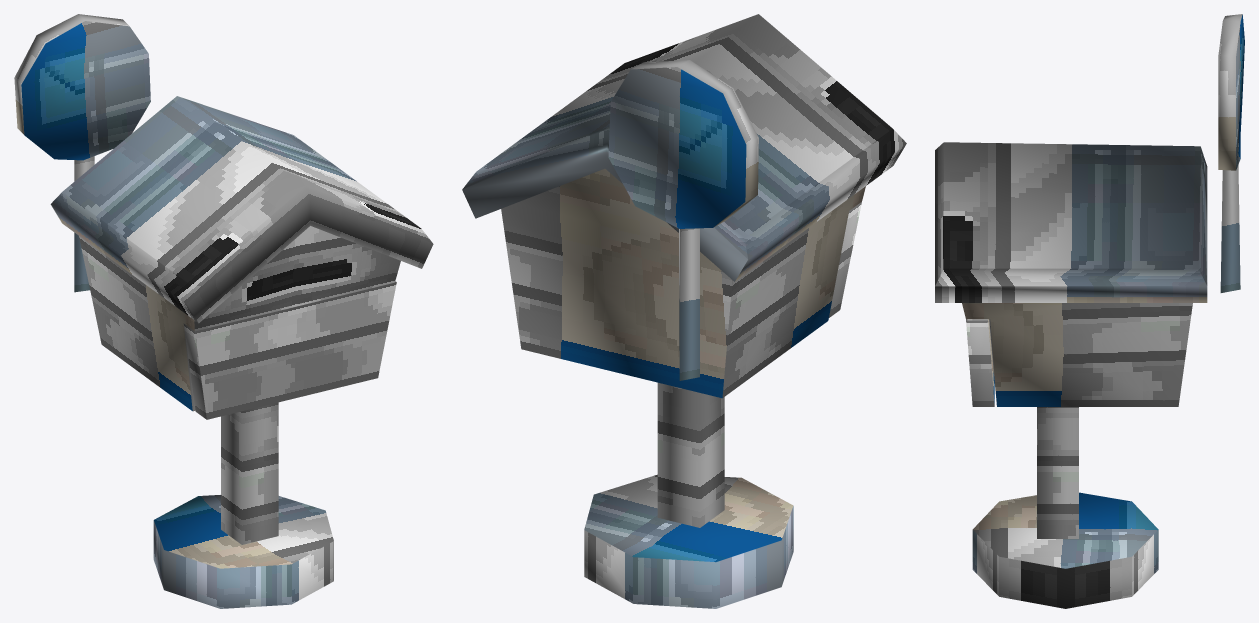
The model's file is int_post_B01.dae.
3 renders of one model, left to right at view 1: azimuth 30°, elevation 25°; view 2: azimuth 150°, elevation 25°; view 3: azimuth 270°, elevation 25°, orthographic. The views are drawn at different scales.
Parts seen in each view (by area): view 1: int_post_B01; view 2: int_post_B01; view 3: int_post_B01.
Part boxes in pixels (box(x1,y1,x2,y2)): int_post_B01: box(14, 14, 433, 608); int_post_B01: box(462, 14, 906, 608); int_post_B01: box(935, 14, 1244, 608).
Bounding box in the file's own units: 21.63 × 39.81 × 21.94.
Materials: 1 (1 with a texture image).
